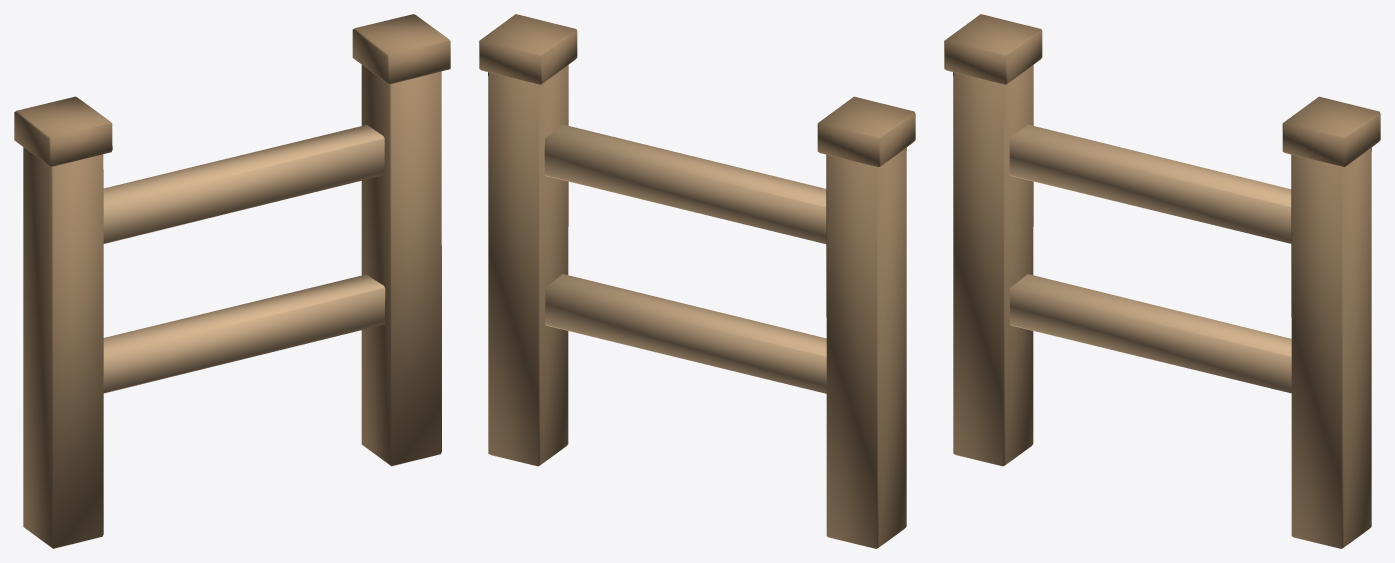
File: struct_fence.glb
3 views of the same model, side by side, from view 1: azimuth 30°, elevation 25°; view 2: azimuth 150°, elevation 25°; view 3: azimuth 330°, elevation 25° (orthographic).
Visible parts, largest first — view 1: struct_fence; view 2: struct_fence; view 3: struct_fence.
Part boxes in pixels (x1=…): struct_fence: x1=14, y1=14, x2=450, y2=548; struct_fence: x1=479, y1=14, x2=915, y2=548; struct_fence: x1=944, y1=14, x2=1380, y2=548.
Size of the model in its own units: 1.07 by 1.06 by 0.1668.
